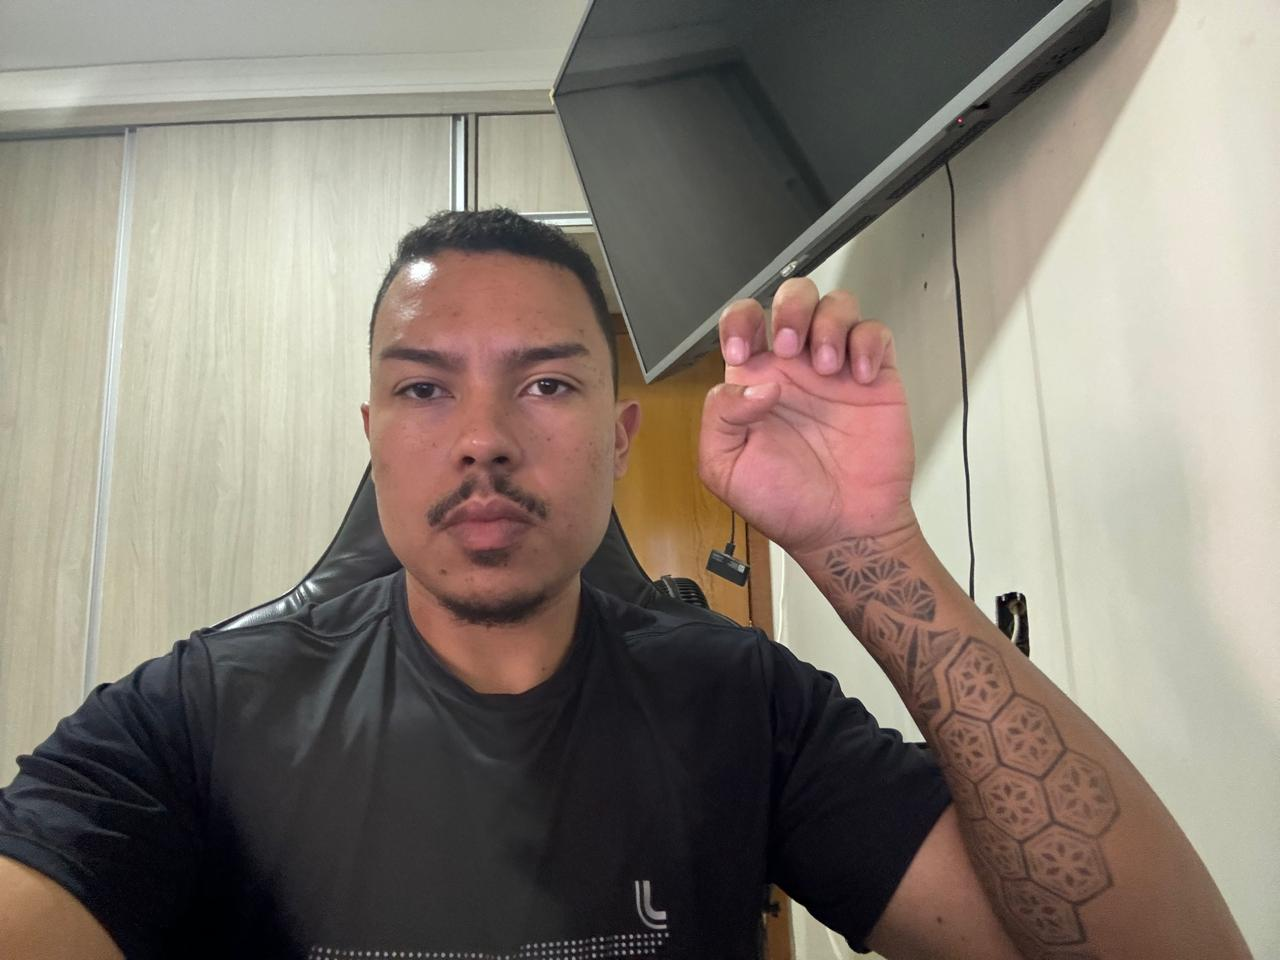e: (686, 268, 927, 549)
